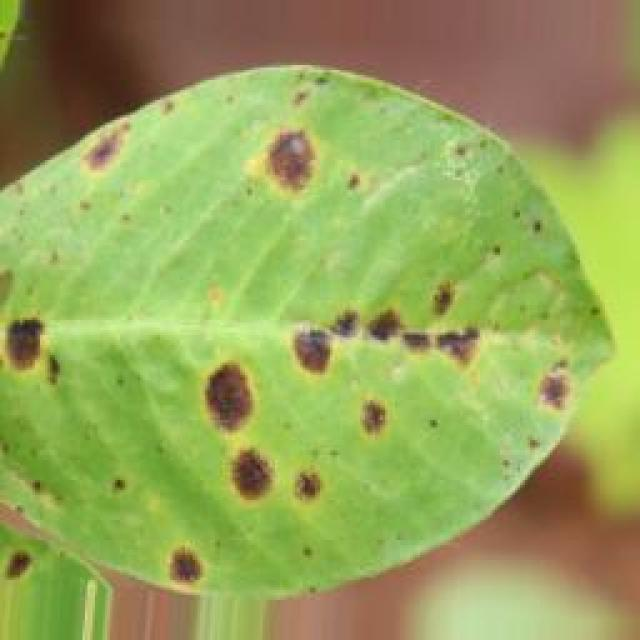Yellowish: (1, 94, 575, 632)
